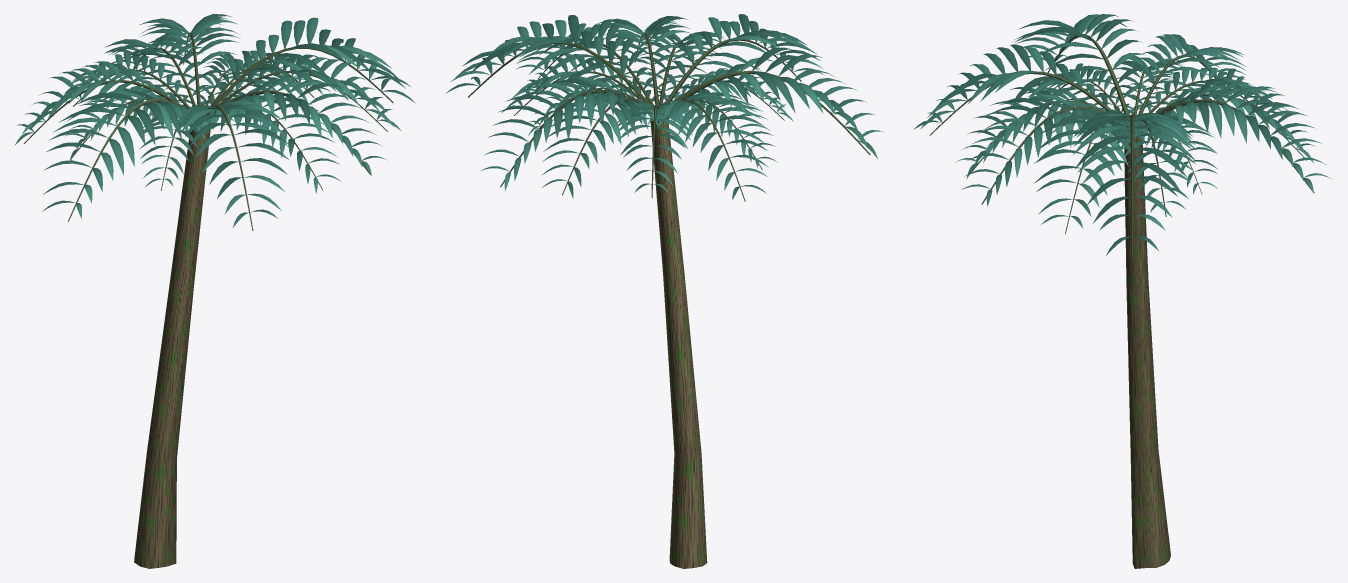
The model's file is Crest Palm.glb.
The picture shows the model from 3 angles, left to right: view 1: azimuth 30°, elevation 25°; view 2: azimuth 150°, elevation 25°; view 3: azimuth 270°, elevation 25°; orthographic projection. The views are drawn at different scales.
Visible parts, largest first — view 1: Crest Palm; view 2: Crest Palm; view 3: Crest Palm.
Boxes of the visible parts, left/top/right/bottom form: Crest Palm: left=15, top=14, right=415, bottom=568; Crest Palm: left=446, top=14, right=883, bottom=568; Crest Palm: left=913, top=14, right=1331, bottom=568.
Size of the model in its own units: 8.76 by 10.6 by 7.88.
Materials: 3 (1 with a texture image).
